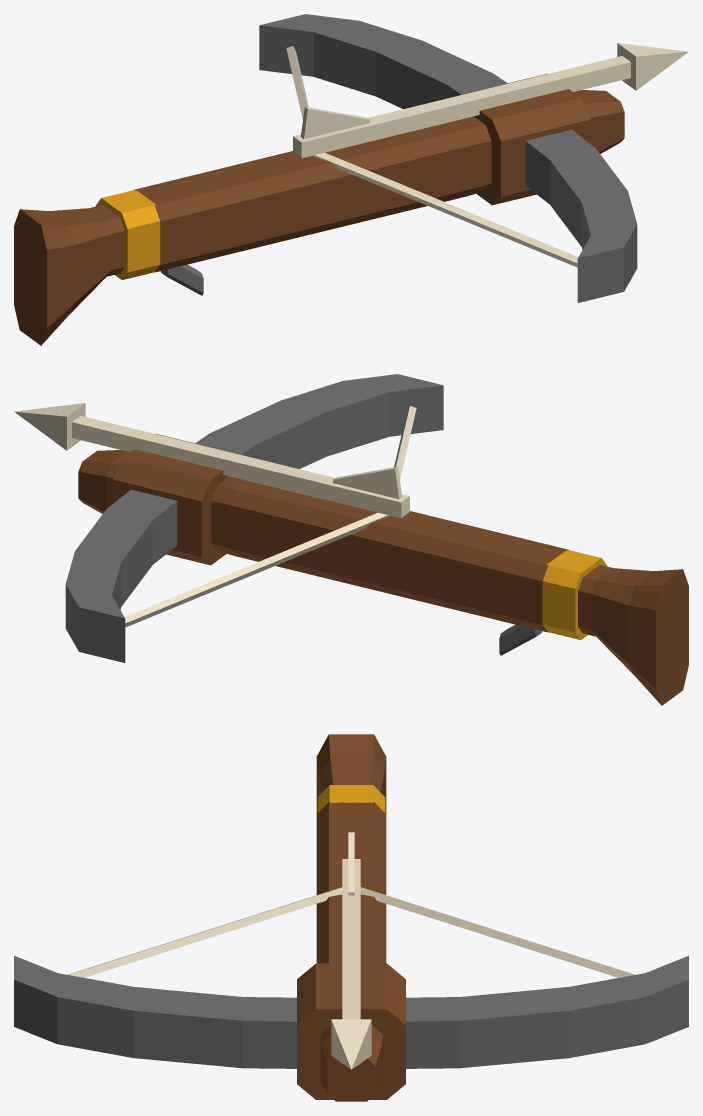
The model's file is prop-crossbow.glb.
The picture shows the model from 3 angles, top to bottom: view 1: azimuth 30°, elevation 25°; view 2: azimuth 150°, elevation 25°; view 3: azimuth 270°, elevation 25°; orthographic projection. The views are drawn at different scales.
Parts seen in each view (by area): view 1: crossbow; view 2: crossbow; view 3: crossbow.
Part boxes in pixels (box(x1,y1,x2,y2)): crossbow: box(14, 14, 688, 345); crossbow: box(14, 374, 688, 705); crossbow: box(14, 734, 688, 1101).
Bounding box in the file's own units: 0.74 × 0.175 × 0.62.
Materials: 1 (1 with a texture image).
